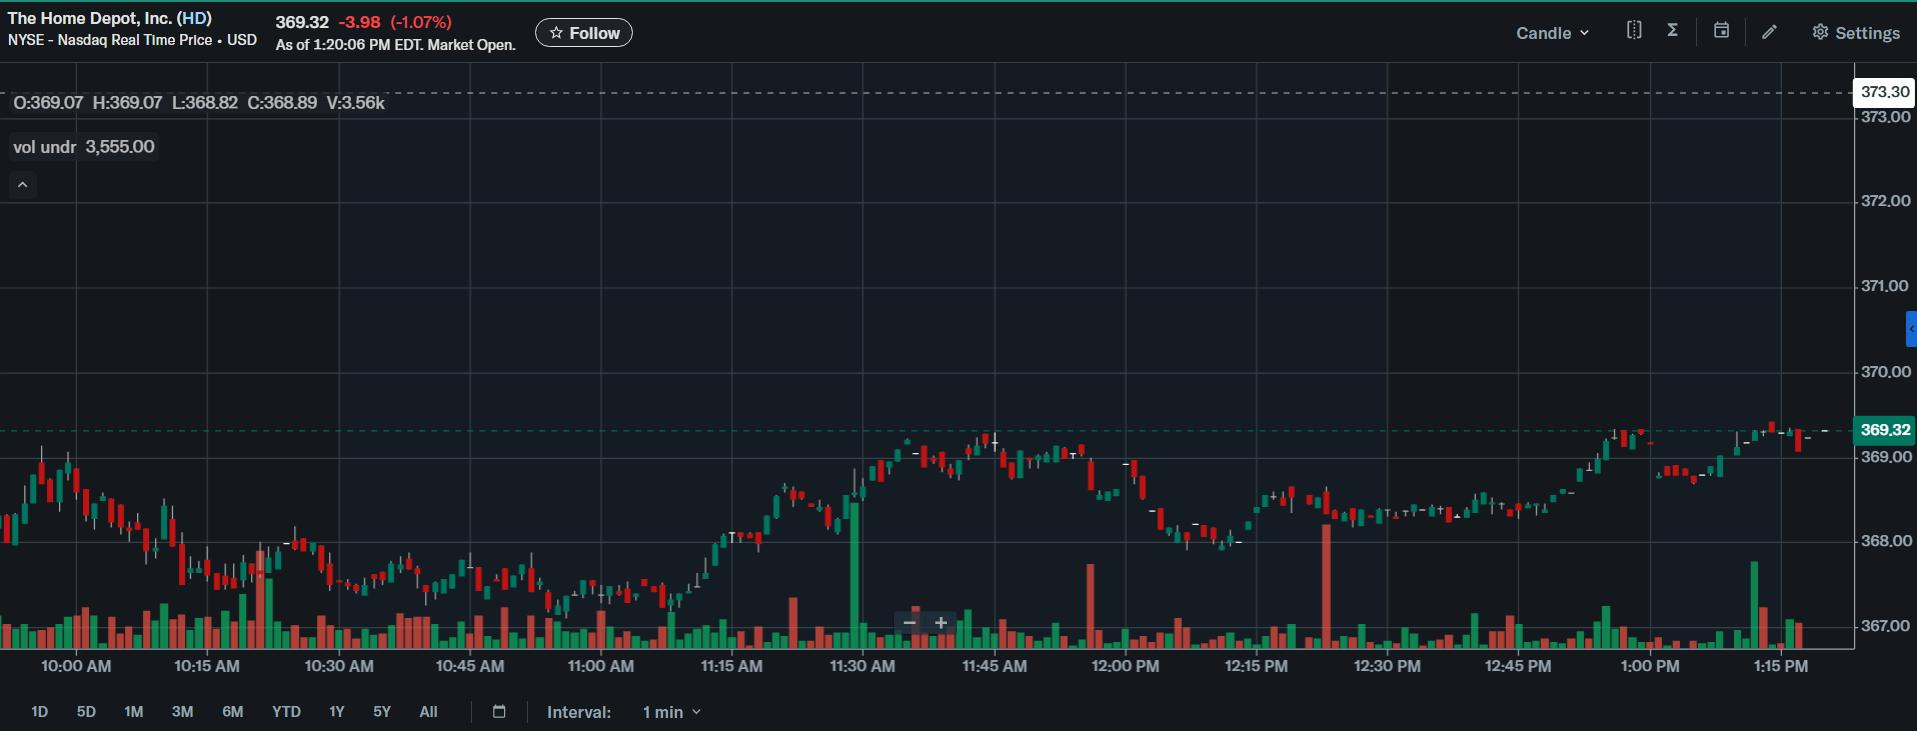Downtrend: (33, 435, 214, 599), (1131, 454, 1237, 553)
Sideways: (1256, 456, 1583, 554), (823, 432, 985, 526), (1632, 419, 1814, 487), (317, 542, 452, 609), (995, 435, 1089, 488)
Uptrend: (668, 449, 789, 609)
